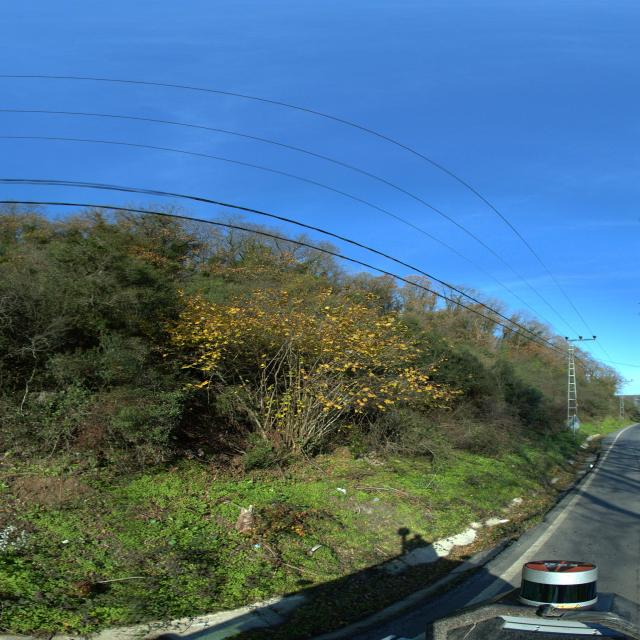Utility Pole Information Plate: (576, 404, 578, 406)
